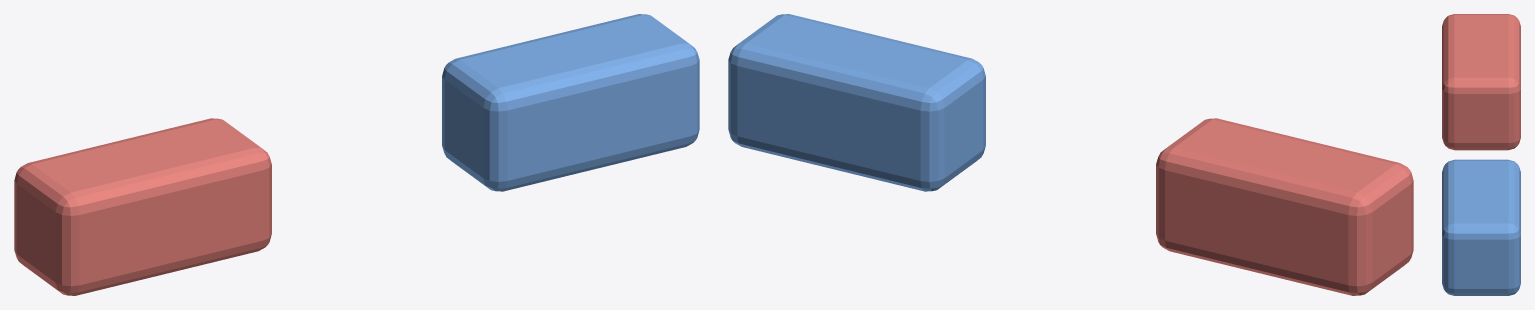
File: bar-magnet.glb
The picture shows the model from 3 angles, left to right: view 1: azimuth 30°, elevation 25°; view 2: azimuth 150°, elevation 25°; view 3: azimuth 270°, elevation 25°; orthographic projection. The views are drawn at different scales.
Parts seen in each view (by area): view 1: NorthPole, SouthPole; view 2: NorthPole, SouthPole; view 3: NorthPole, SouthPole.
Boxes of the visible parts, bbox=[...] form: NorthPole: bbox=[14, 118, 271, 295]; SouthPole: bbox=[442, 14, 699, 191]; NorthPole: bbox=[1156, 118, 1413, 295]; SouthPole: bbox=[728, 14, 985, 191]; NorthPole: bbox=[1442, 14, 1520, 150]; SouthPole: bbox=[1442, 159, 1520, 295].
Bounding box in the file's own units: 1.05 × 0.16 × 0.16.
